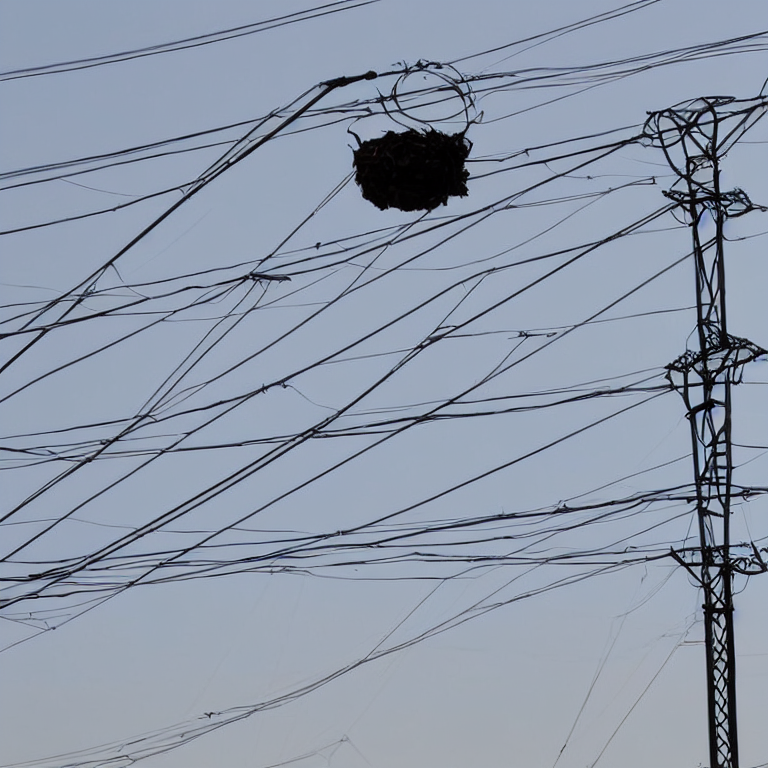nest: (355, 136, 470, 207)
